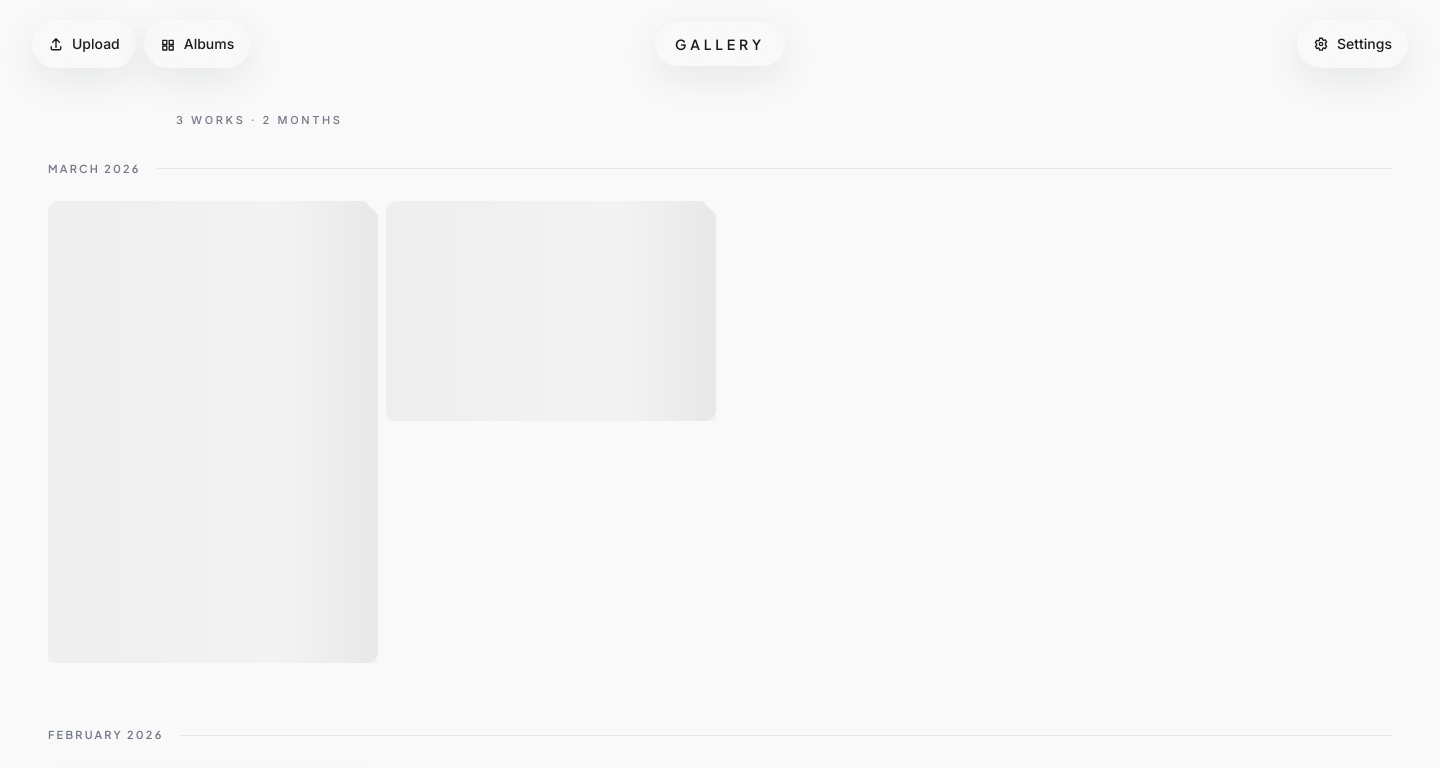
ExhibitionPage › shows the current fixed column count in the stepper while auto is selected
Click the button with aria-label "Open gallery settings": [1353, 44] box [1297,20,1408,68]
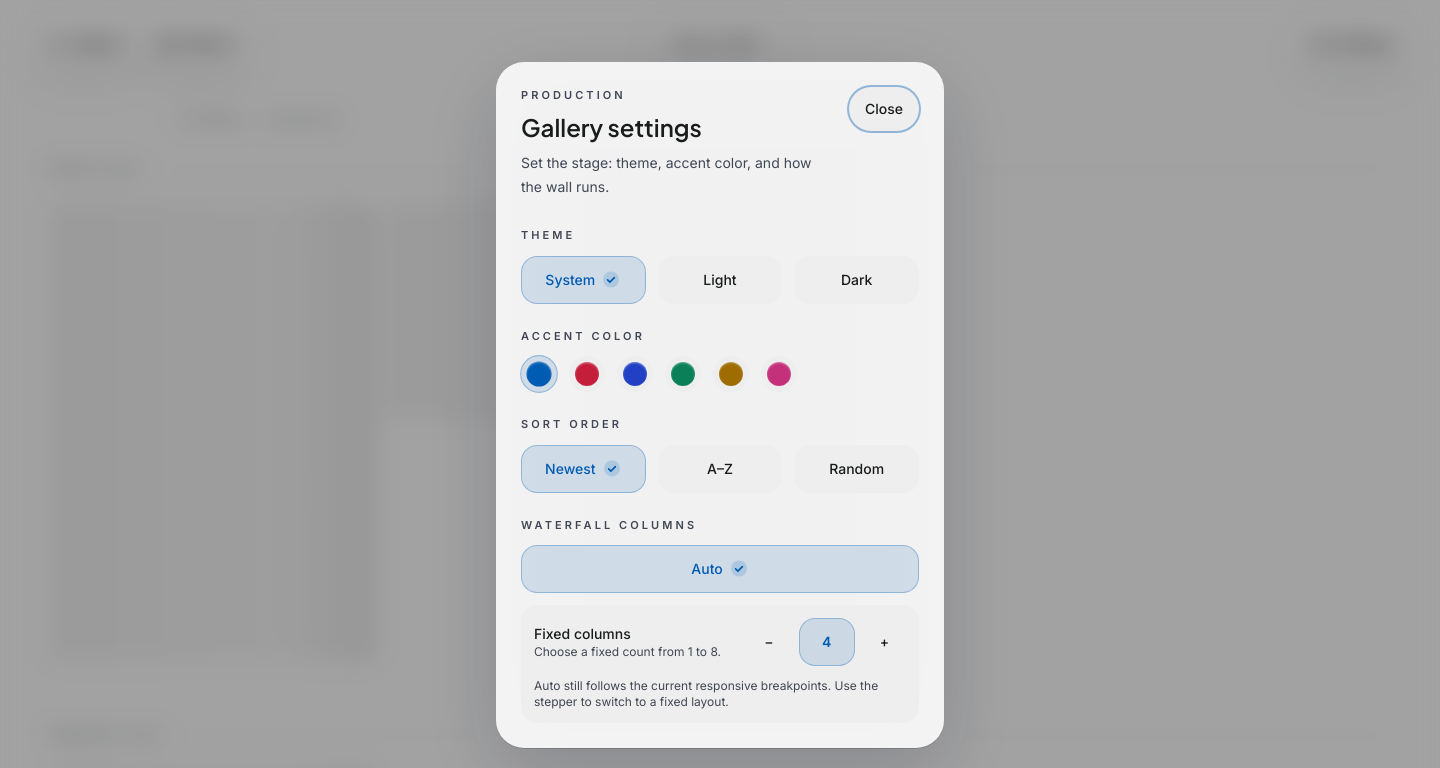
Now the text named "Selected waterfall column count" reads "4", box [822,633,831,650]
